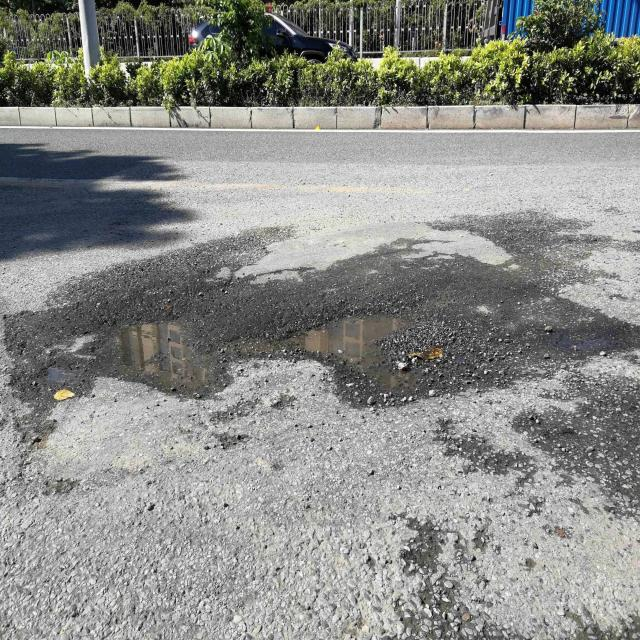Pothole: (252, 296, 442, 414), (113, 319, 214, 399), (34, 358, 76, 396)
